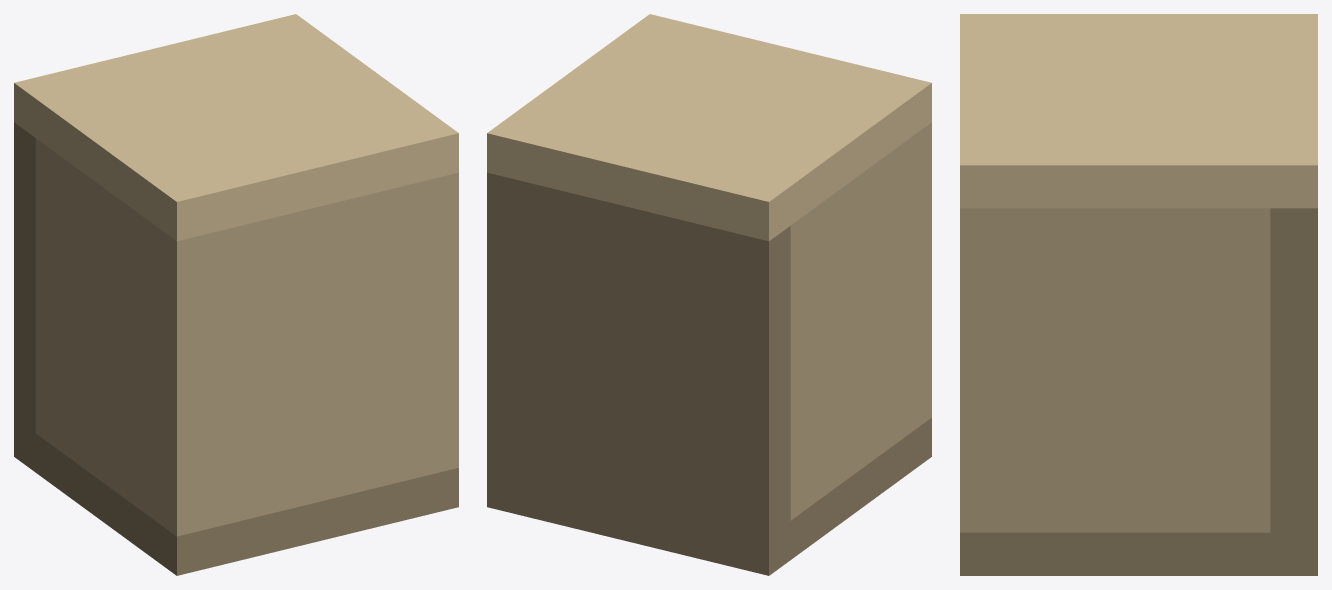
Rendered from estante_pan_01.glb.
The picture shows the model from 3 angles, left to right: view 1: azimuth 30°, elevation 25°; view 2: azimuth 150°, elevation 25°; view 3: azimuth 270°, elevation 25°; orthographic projection. The views are drawn at different scales.
Parts seen in each view (by area): view 1: estante_pan; view 2: estante_pan; view 3: estante_pan.
Part boxes in pixels (x1,y1,x2,y2): estante_pan: [14, 14, 458, 575]; estante_pan: [487, 14, 931, 575]; estante_pan: [960, 14, 1317, 575].
Size of the model in its own units: 1 by 1.27 by 1.
